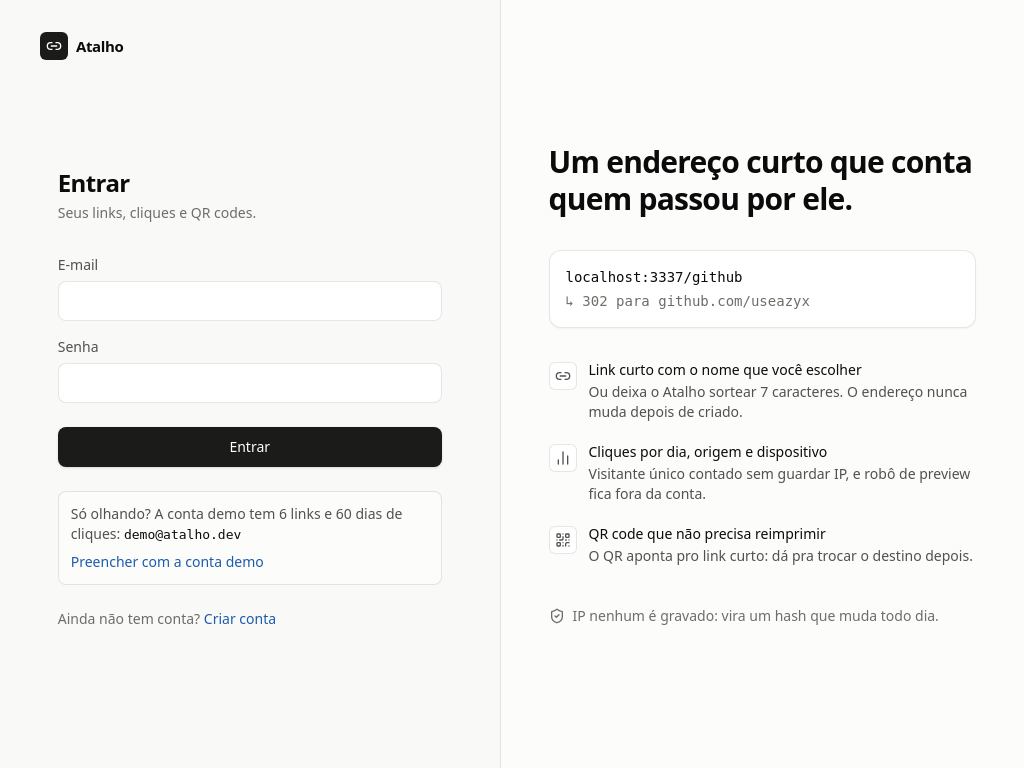
login › fills the demo account, logs in and lists the links
Click the button "Preencher com a conta demo". click: (167,562)
box: [71,552,264,572]
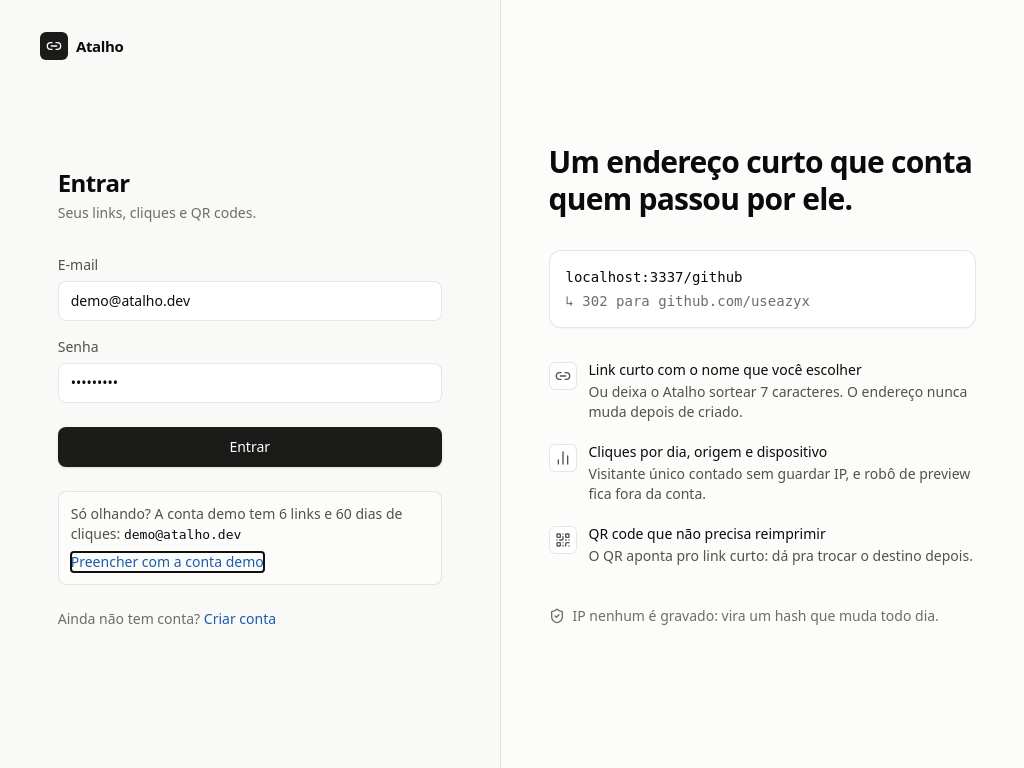
Click the button "Entrar". click: (250,447)
box: [58,427,442,467]
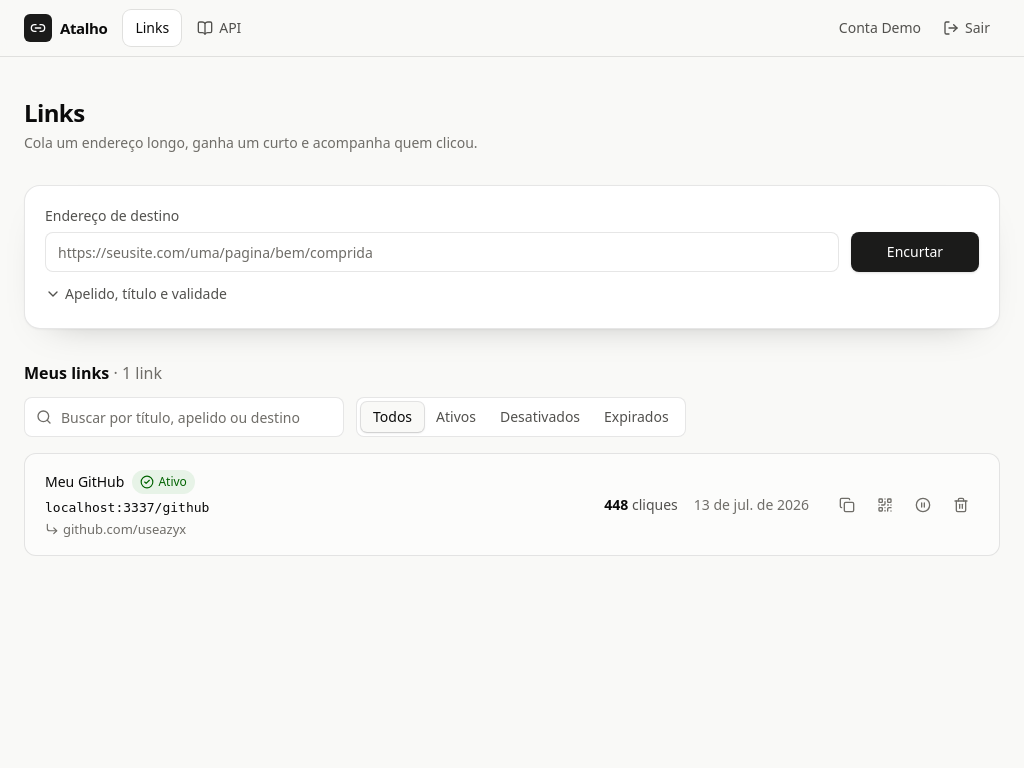
Check: the text "localhost:3337/github" is shown, box [45,500,209,515]
Check: the text "Ativo" is shown, box [132,470,195,494]
